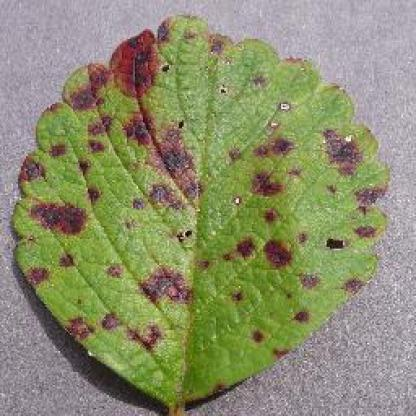leaf scorch: (9, 8, 396, 414)
